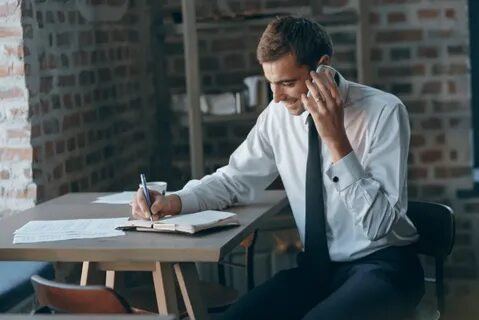awake: (187, 11, 427, 320)
